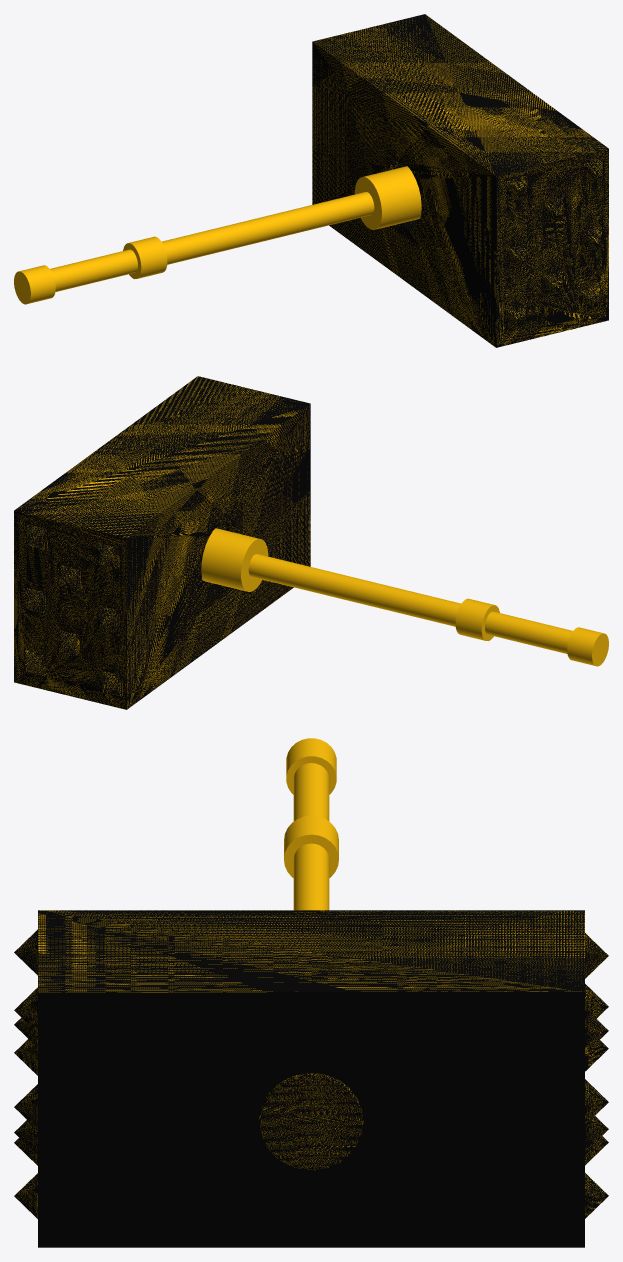
Rendered from tenderizer_01_origin_gt_1.dae.
The picture shows the model from 3 angles, top to bottom: view 1: azimuth 30°, elevation 25°; view 2: azimuth 150°, elevation 25°; view 3: azimuth 270°, elevation 25°; orthographic projection. The views are drawn at different scales.
Parts seen in each view (by area): view 1: group_0 (×14); view 2: group_0 (×14); view 3: group_0 (×7).
Boxes of the visible parts, <box> form: group_0 (×14): <box>14,14,608,347</box>; group_0 (×14): <box>14,376,608,709</box>; group_0 (×7): <box>38,738,584,1247</box>.
Size of the model in its own units: 8.42 by 5.83 by 2.76.
